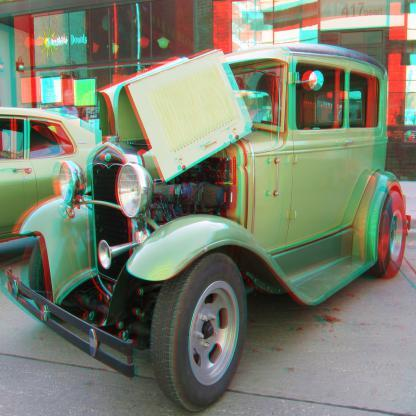car: (15, 34, 396, 414), (0, 109, 105, 243)
